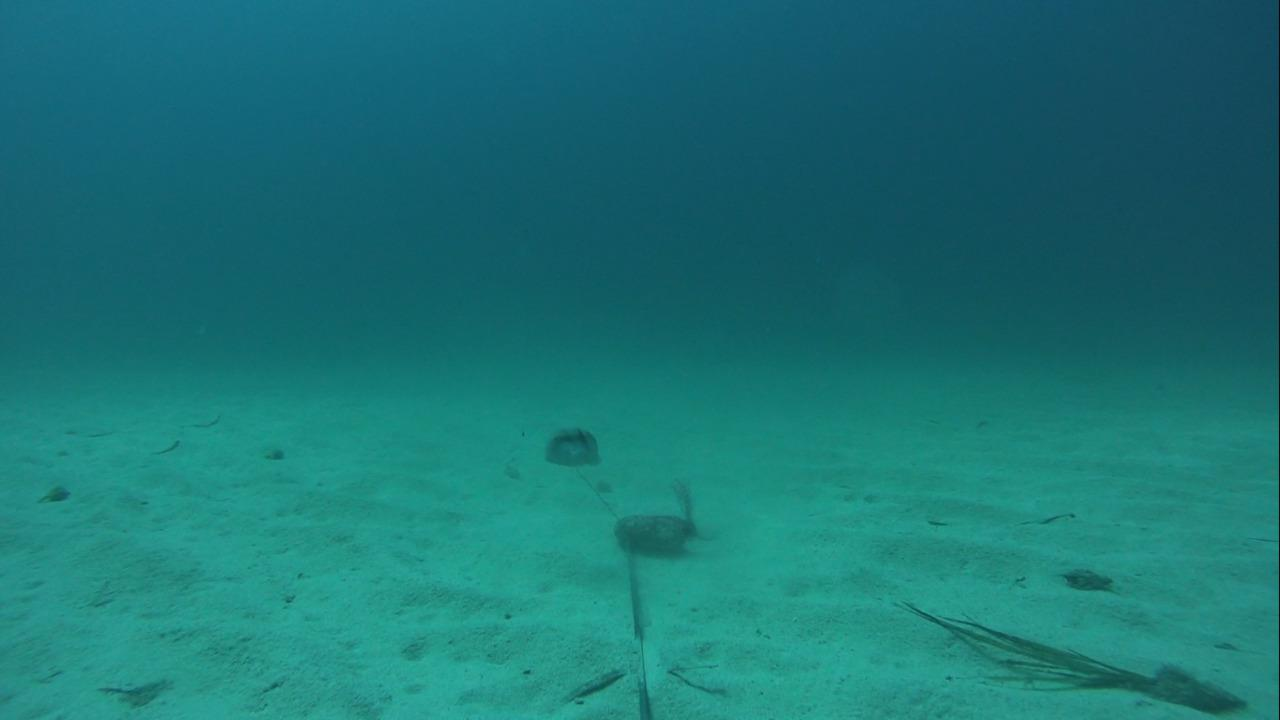raor: (536, 420, 613, 475)
